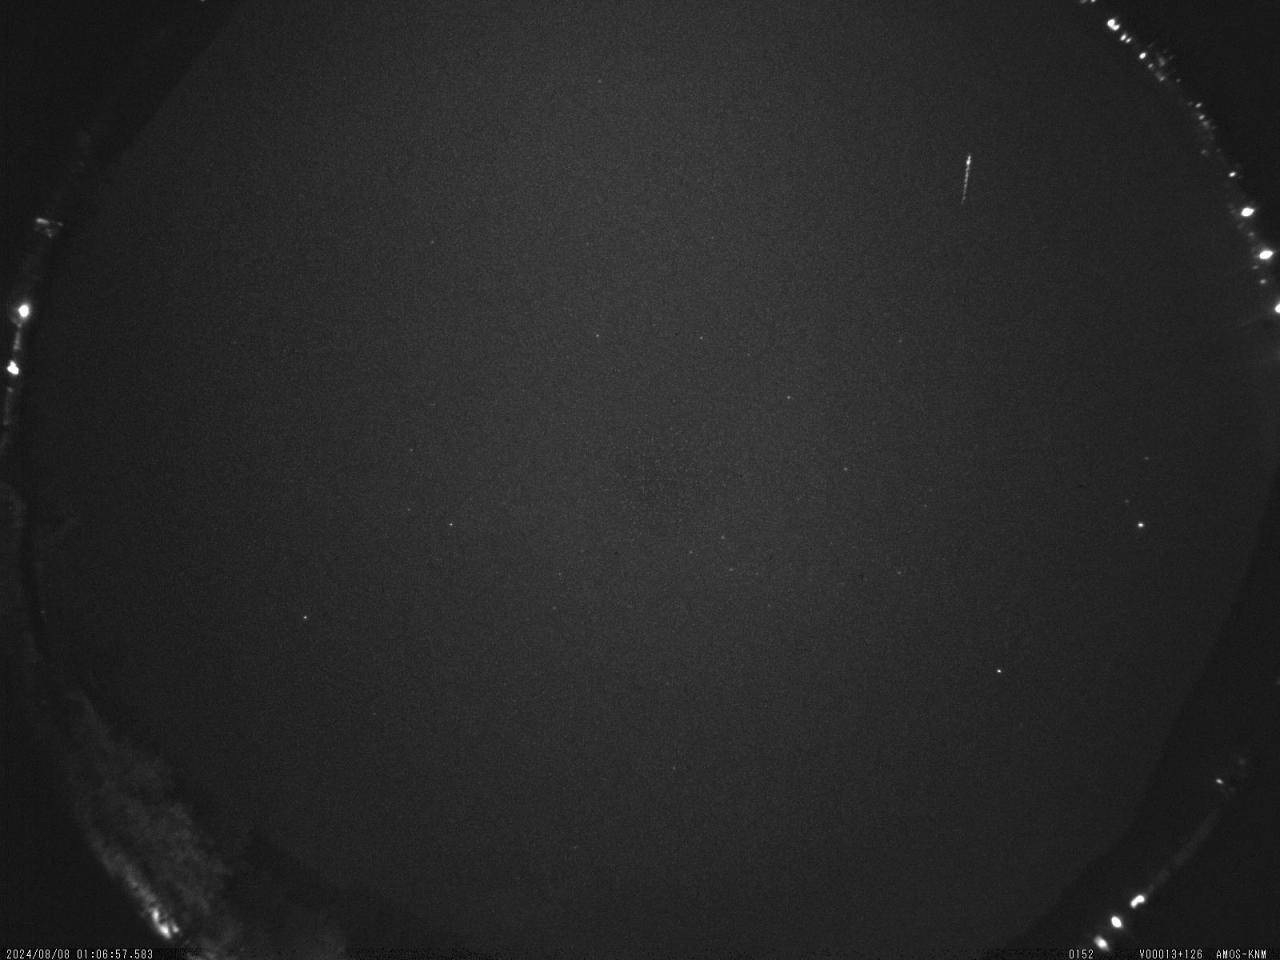Meteor: (953, 147, 980, 214)
